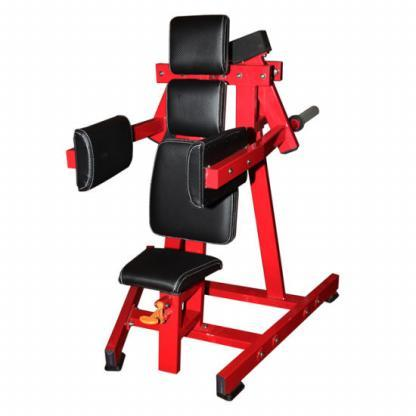lateral raises machine: (67, 13, 341, 403)
